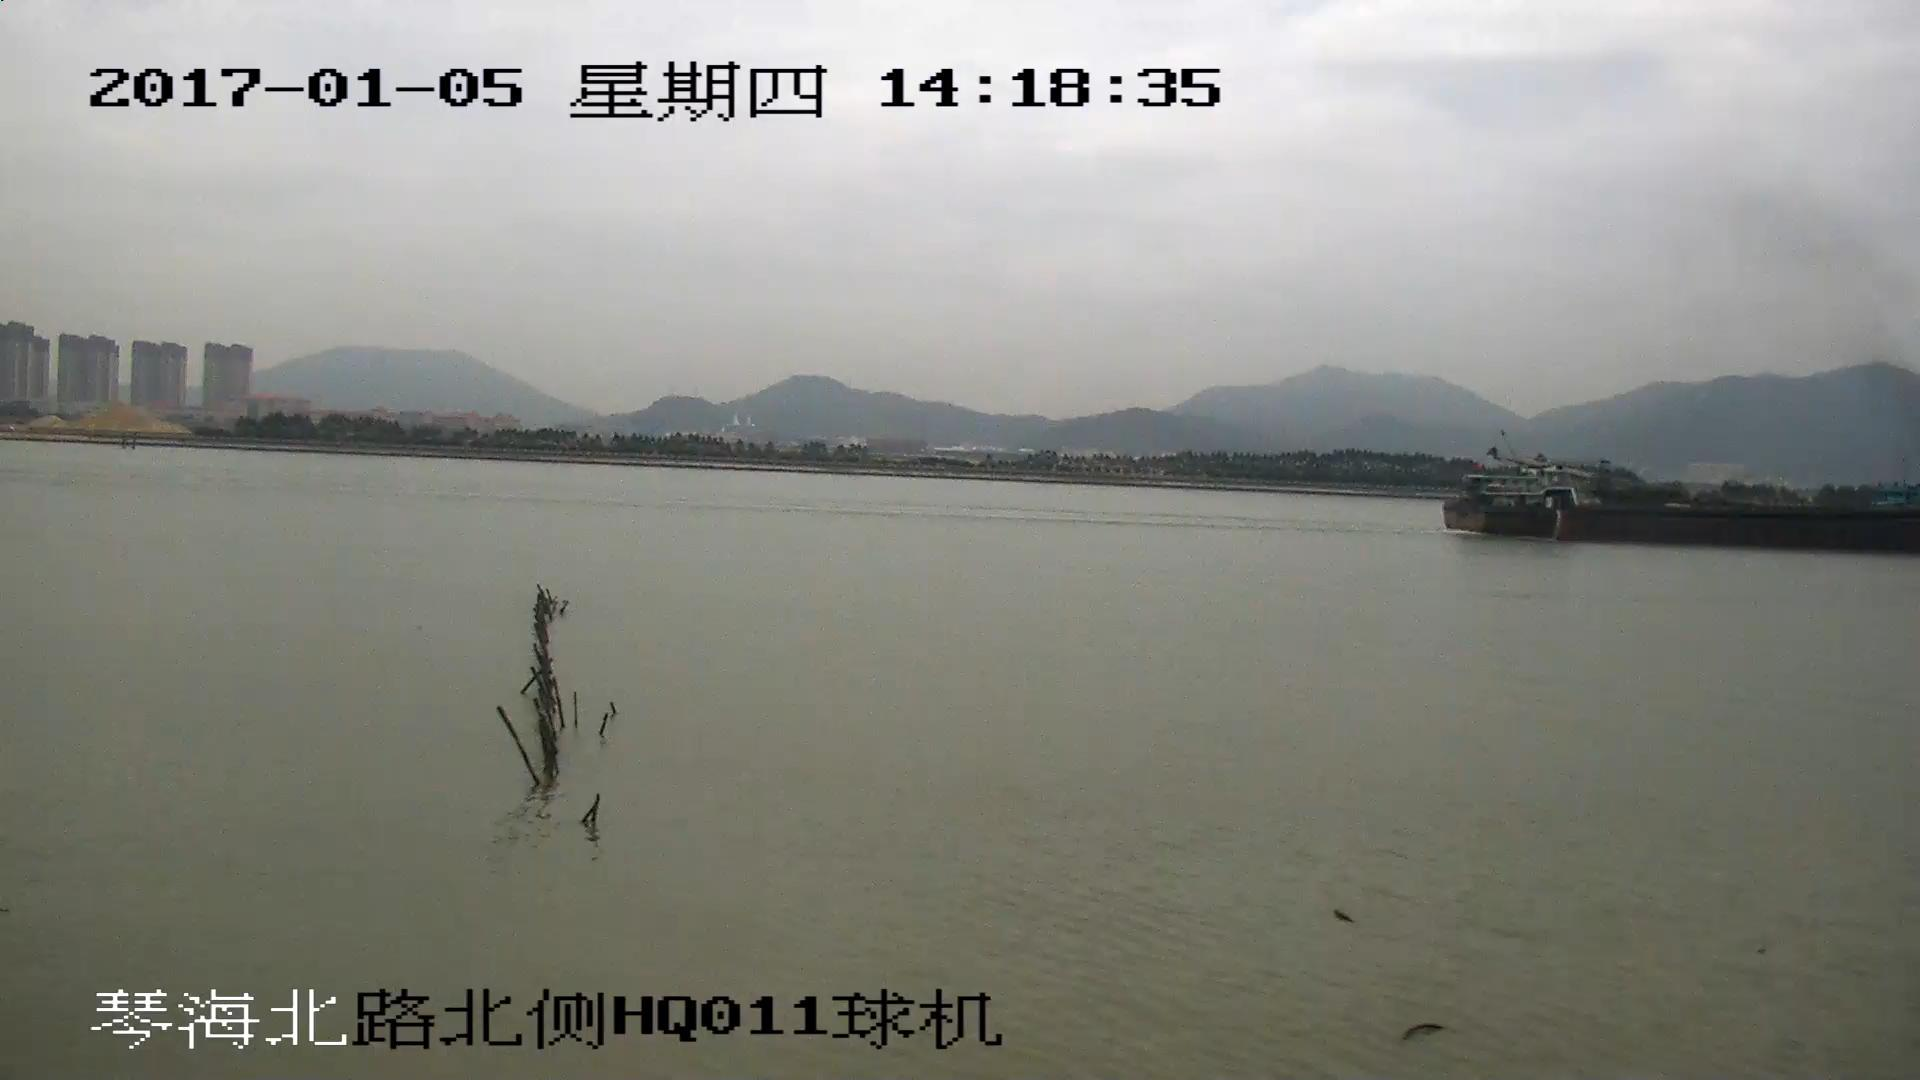Ship: (1444, 465, 1920, 554)
